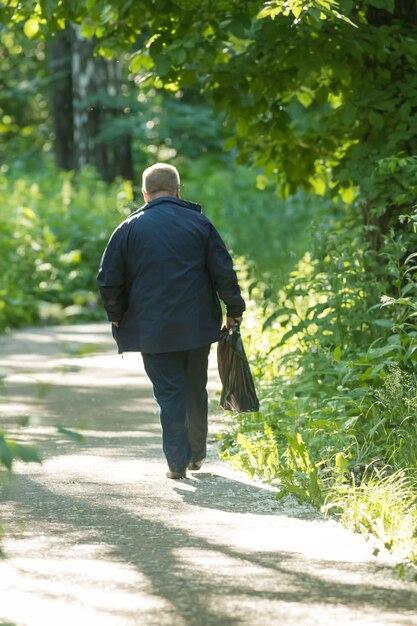Human: (85, 129, 257, 497)
